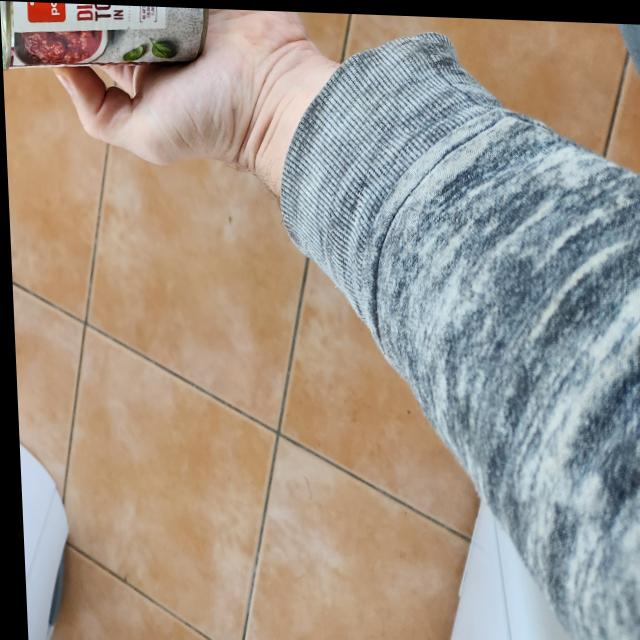tomato sauce: (0, 0, 207, 77)
